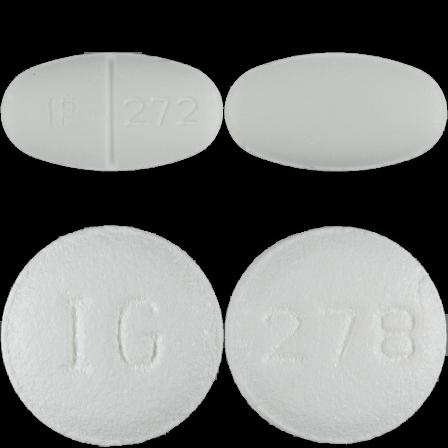68788-8964: (0, 0, 224, 224)
